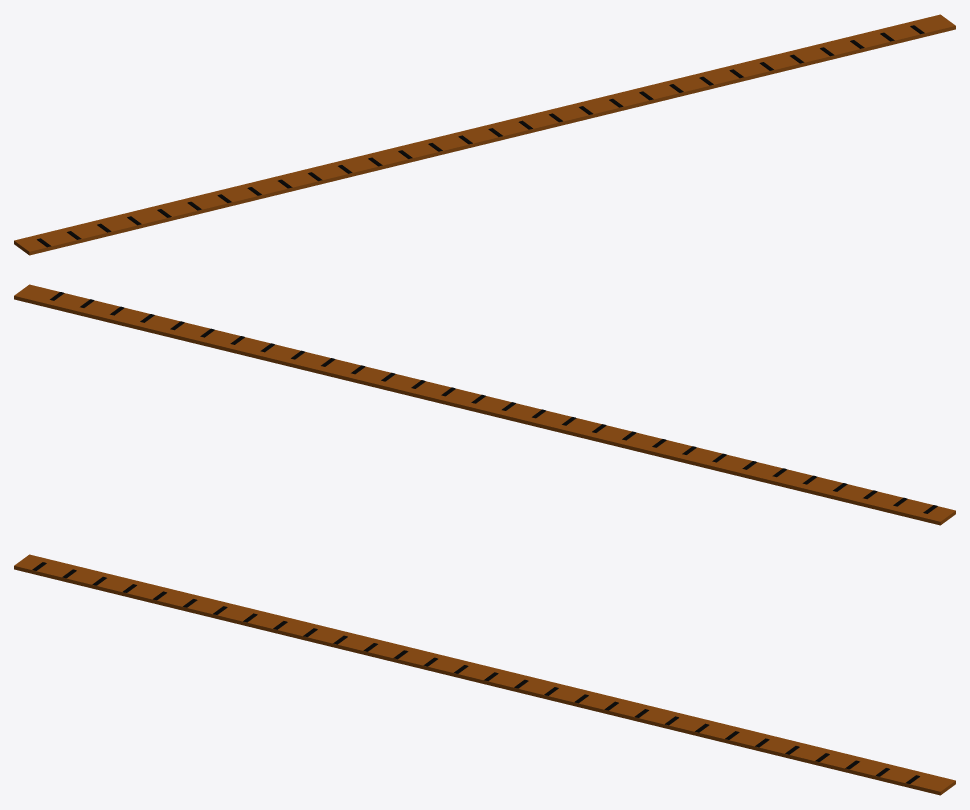
The model's file is Measure.fbx.
The picture shows the model from 3 angles, top to bottom: view 1: azimuth 30°, elevation 25°; view 2: azimuth 150°, elevation 25°; view 3: azimuth 330°, elevation 25°; orthographic projection.
Parts seen in each view (by area): view 1: Measure; view 2: Measure; view 3: Measure.
Part boxes in pixels (left/top/right/bottom): Measure: left=14, top=14, right=955, bottom=255; Measure: left=14, top=284, right=955, bottom=525; Measure: left=14, top=554, right=955, bottom=795.
Bounding box in the file's own units: 123 × 0.5667 × 3.55.
1 material, 1 textured.
